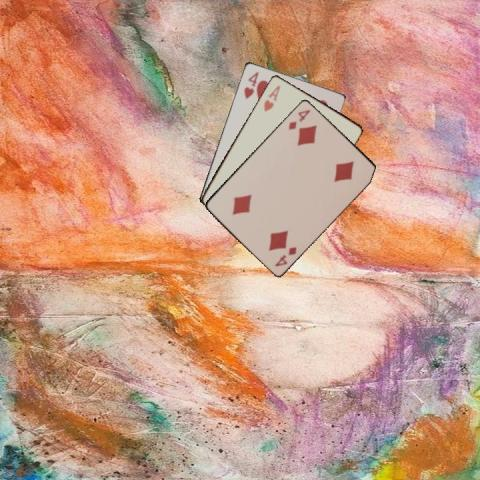4d: (271, 243, 298, 268), (285, 107, 312, 131)
4h: (241, 69, 260, 100)
Ah: (261, 82, 282, 113)
